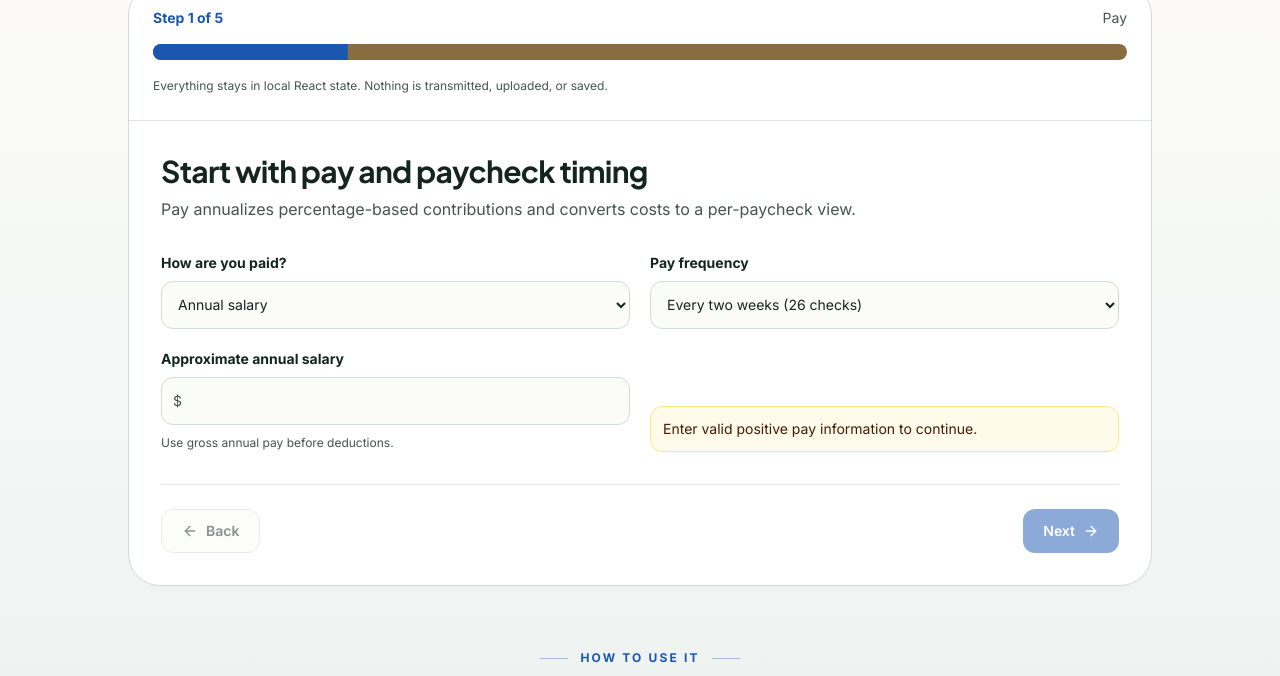
Test: EmployerBenefitsActionPlanPage › keeps Next disabled until pay is valid and copy/print remain user actions
(page scrolled)
expect the button "Next" is disabled: met, box [1023,509,1119,553]
Step 1. Type "60000" into the number field labelled "Approximate annual salary" → (396, 400), box [161,376,630,424]
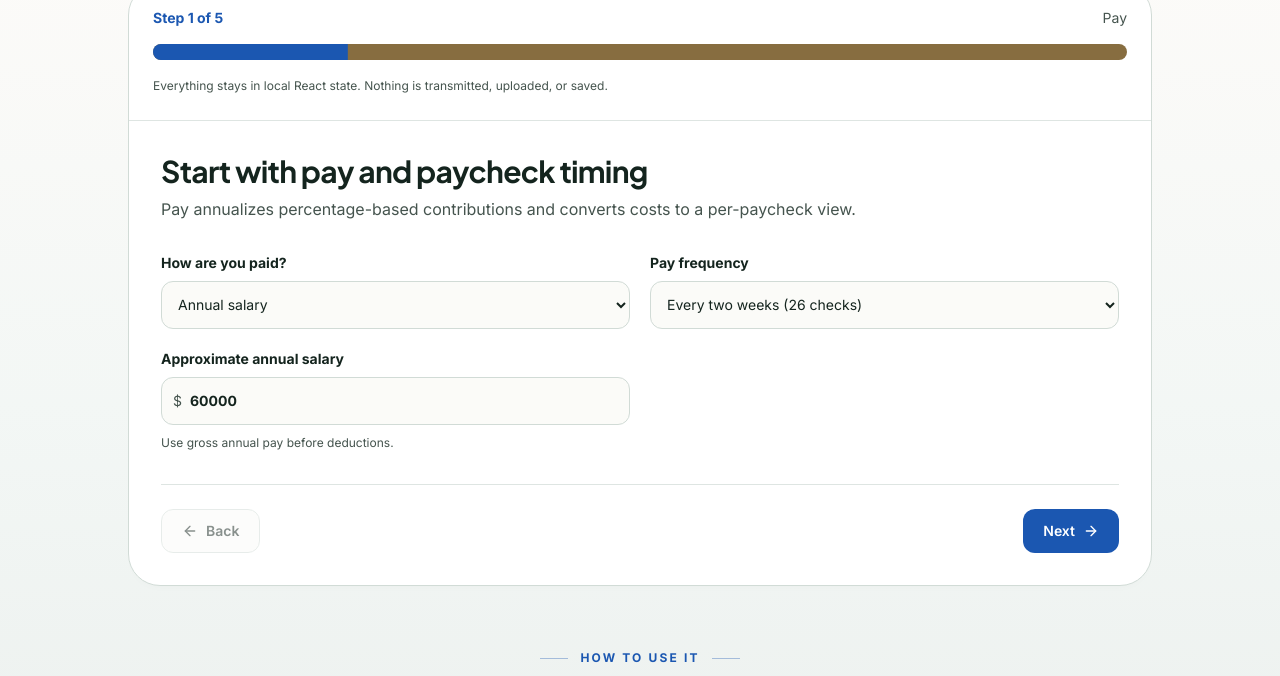
expect the button "Next" is enabled: met, box [1023,509,1119,553]
